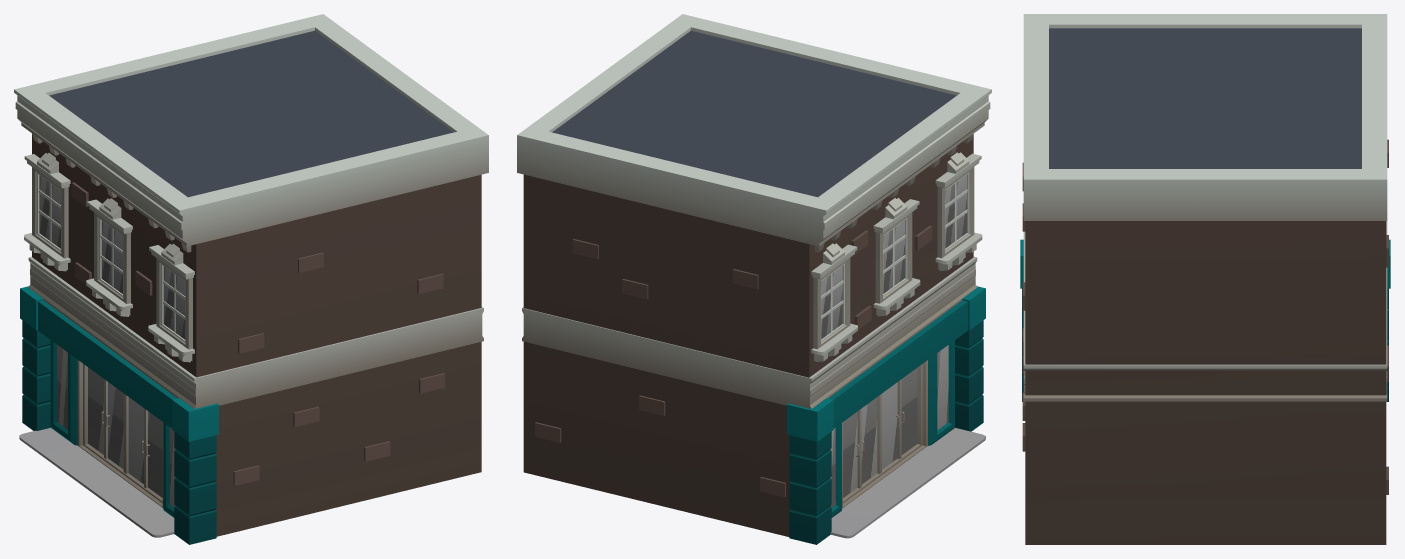
Rendered from Building_21_4_E.glb.
The picture shows the model from 3 angles, left to right: view 1: azimuth 30°, elevation 25°; view 2: azimuth 150°, elevation 25°; view 3: azimuth 270°, elevation 25°; orthographic projection. The views are drawn at different scales.
Visible parts, largest first — view 1: Building_21_4_E; view 2: Building_21_4_E; view 3: Building_21_4_E.
Part boxes in pixels (x1,y1,x2,y2): Building_21_4_E: (14, 14, 488, 544); Building_21_4_E: (517, 14, 991, 544); Building_21_4_E: (1020, 14, 1390, 544).
Size of the model in its own units: 7.79 by 7.82 by 7.13.
Materials: 3 (3 with a texture image).
